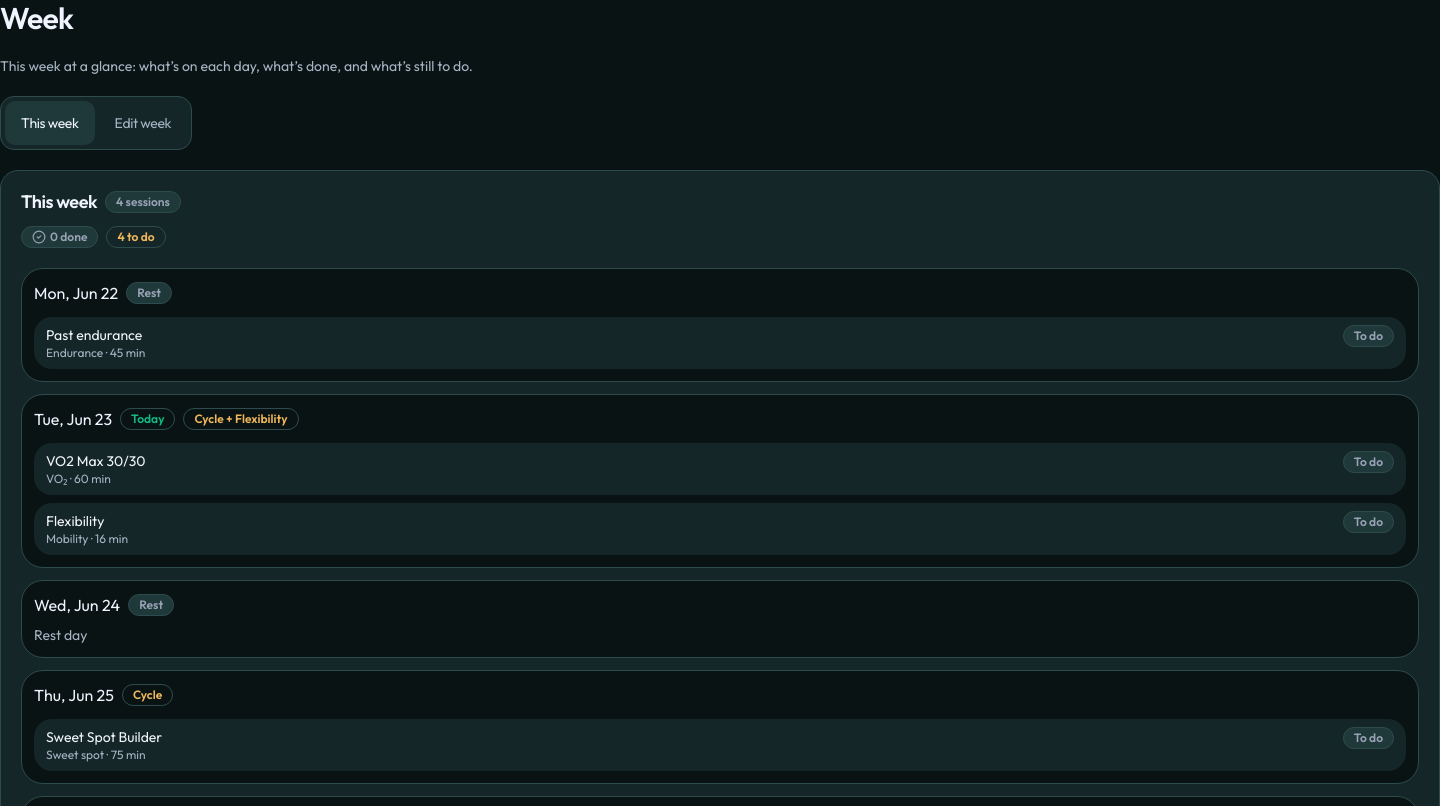
WeekAheadPage › keeps elapsed editor days readable but blocks their mutations and move targets (Batch 149)
Expected: the text "Past endurance" is shown, top-left (46, 324), bottom-right (145, 344)
What coordinates should you click on to do the following:
click the tab "Edit week"
I would click on:
 (143, 123)
Its box is top-left (99, 101), bottom-right (187, 145).
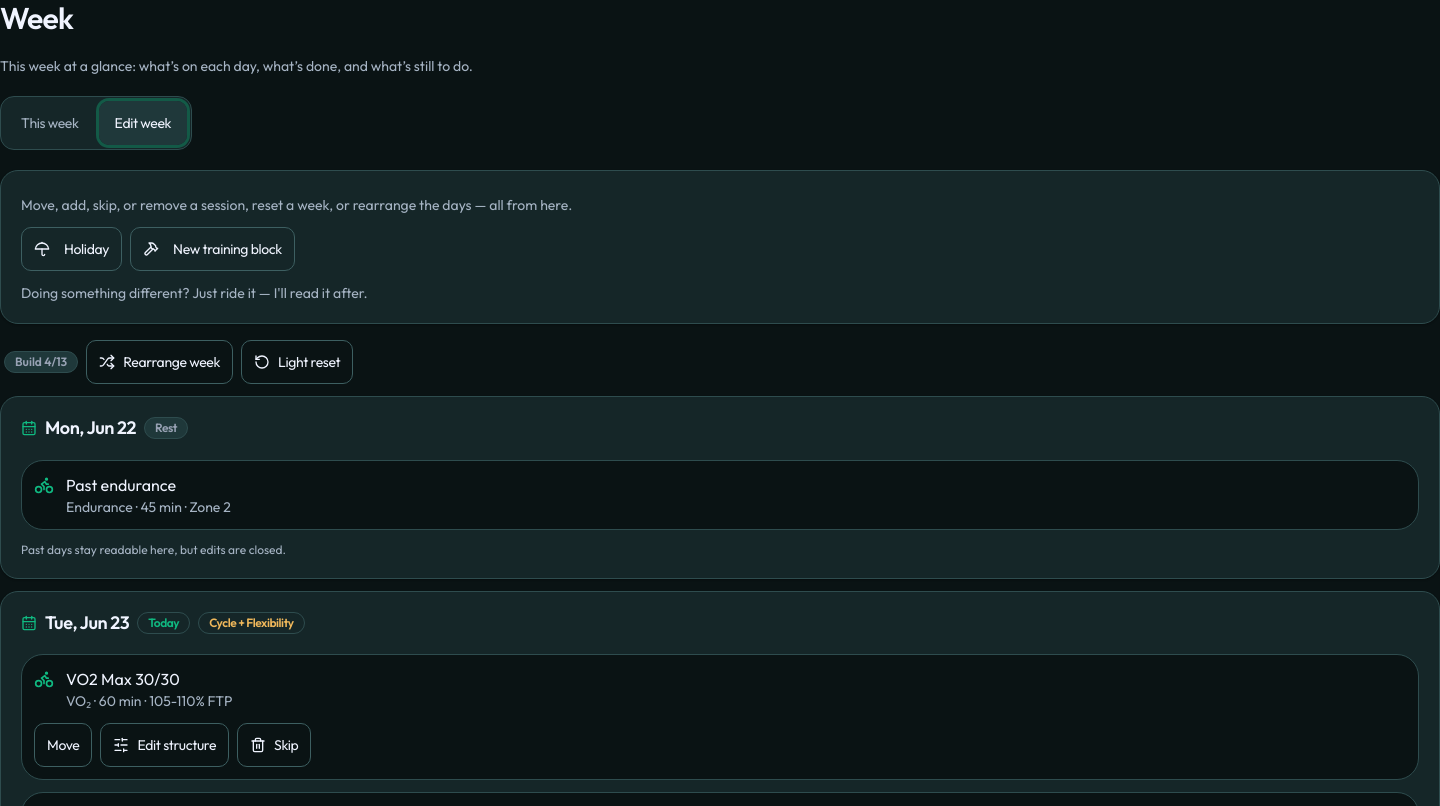
Expected: the button with aria-label "View Past endurance details" is shown, top-left (34, 472), bottom-right (1406, 516)
Result: the button "Rearrange week" is shown at top-left (86, 340), bottom-right (233, 384)
Result: the button "Light reset" is shown at top-left (241, 340), bottom-right (353, 384)
What coordinates should you click on to do the following:
click the button "Move"
I would click on:
 (63, 745)
Its box is top-left (34, 723), bottom-right (92, 767).
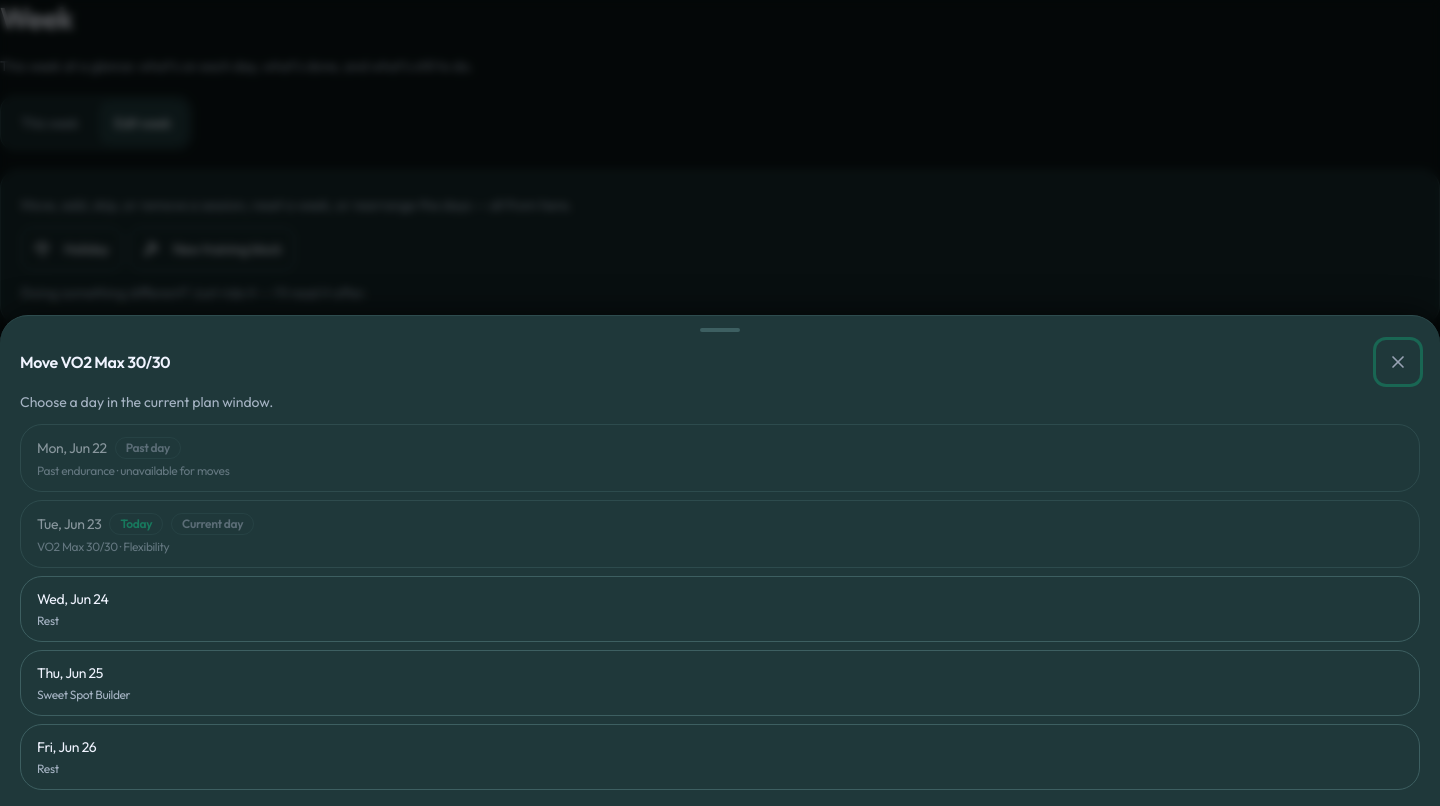
Result: the button "Mon, Jun 22 Past day Past endurance · unavailable for moves" is disabled at top-left (20, 424), bottom-right (1420, 492)
Result: the text "Past day" is shown at top-left (115, 437), bottom-right (181, 459)
Result: the text "Past endurance · unavailable for moves" is shown at top-left (37, 463), bottom-right (230, 478)
